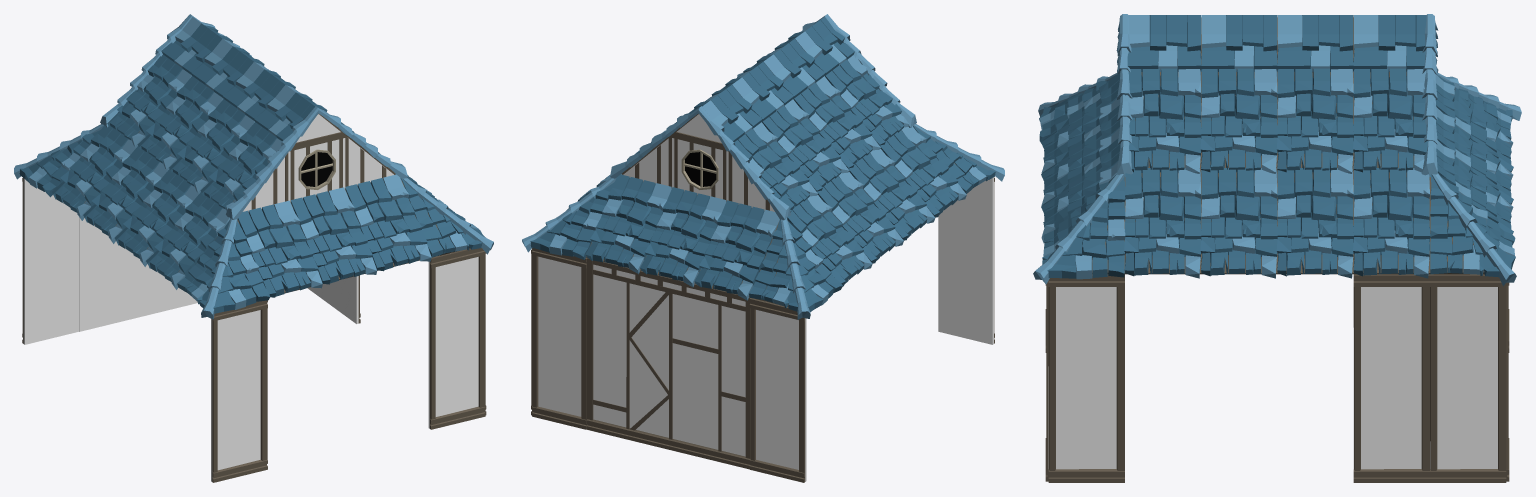
The model's file is house_07_parts.fbx.
3 renders of one model, left to right at view 1: azimuth 30°, elevation 25°; view 2: azimuth 150°, elevation 25°; view 3: azimuth 270°, elevation 25°, orthographic. The views are drawn at different scales.
Visible parts, largest first — view 1: WALL_03_3, WALL_03_4, WALL_03_9, WALL_05_2, ROOF_base_12, ROOF_base_24, ROOF_base_21, ROOF_corner_out_5, ROOF_base_14, ROOF_base_18, ROOF_base_17, ROOF_base_16 (+18 smaller); view 2: WALL_05_2, WALL_03_9, WALL_03_8, WALL_03_4, ROOF_base_22, ROOF_base_23, ROOF_base_11, ROOF_corner_out_4, ROOF_base_18, ROOF_base_17, ROOF_base_14, ROOF_base_16 (+17 smaller); view 3: WALL_03_6, WALL_03_7, WALL_03_5, ROOF_base_6, ROOF_base_8, ROOF_base_3, ROOF_base_10, ROOF_base_5, ROOF_base_7, ROOF_base_4, ROOF_base_9, ROOF_corner_out_2 (+17 smaller).
Part boxes in pixels (x1,y1,x2,y2): WALL_03_3: (428,248,485,429); WALL_03_4: (211,300,267,482); WALL_03_9: (22,178,79,344); WALL_05_2: (79,217,197,331); ROOF_base_12: (345,174,431,271); ROOF_base_24: (290,187,376,284); ROOF_base_21: (237,200,322,297); ROOF_corner_out_5: (177,218,269,319); ROOF_base_14: (146,192,230,289); ROOF_base_18: (83,146,169,243); ROOF_base_17: (114,169,200,266); ROOF_base_16: (52,125,137,220); WALL_05_2: (586,258,750,469); WALL_03_9: (749,298,806,482); WALL_03_8: (532,248,587,429); WALL_03_4: (938,177,994,344); ROOF_base_22: (694,200,779,300); ROOF_base_23: (640,187,725,287); ROOF_base_11: (585,174,671,274); ROOF_corner_out_4: (749,218,842,319); ROOF_base_18: (817,172,903,263); ROOF_base_17: (848,149,935,240); ROOF_base_14: (880,126,966,217); ROOF_base_16: (787,195,872,286); WALL_03_6: (1353,274,1429,482); WALL_03_7: (1430,274,1506,482); WALL_03_5: (1048,274,1124,482); ROOF_base_6: (1276,168,1353,278); ROOF_base_8: (1200,168,1277,278); ROOF_base_3: (1353,168,1430,278); ROOF_base_10: (1124,168,1201,278); ROOF_base_5: (1276,67,1353,173); ROOF_base_7: (1200,68,1277,173); ROOF_base_4: (1353,68,1429,172); ROOF_base_9: (1125,68,1201,173); ROOF_corner_out_2: (1033,174,1125,284).
Size of the model in its own units: 541 by 560 by 641.
